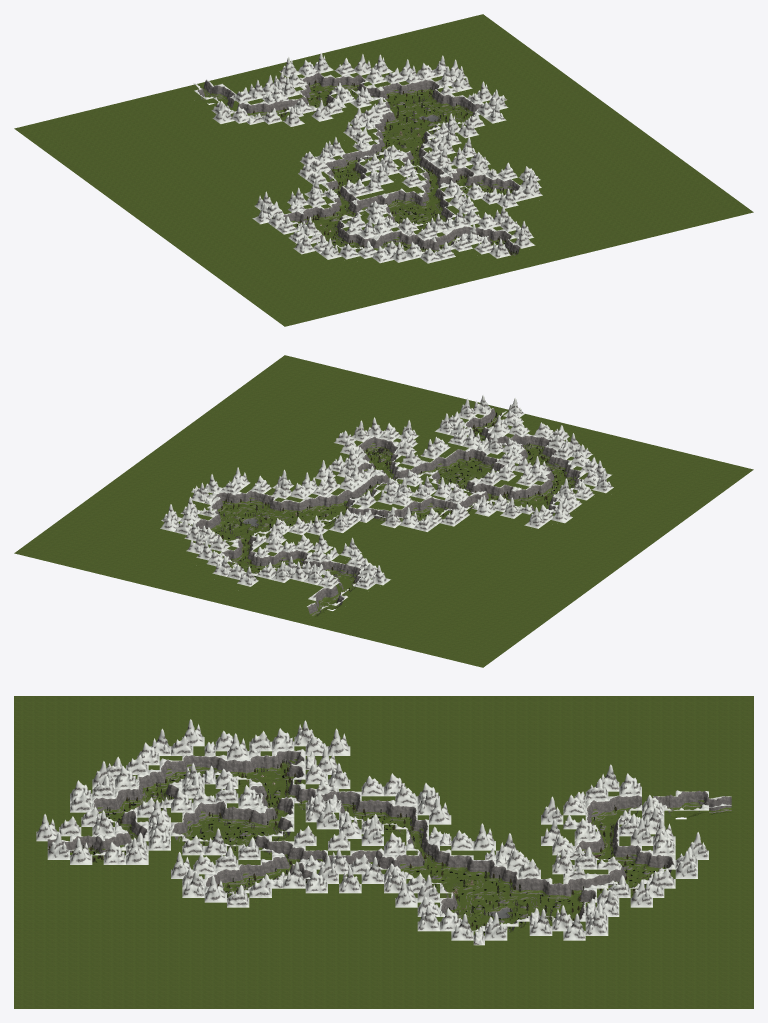
File: map_F02_02.glb
3 views of the same model, one above another, from view 1: azimuth 30°, elevation 25°; view 2: azimuth 150°, elevation 25°; view 3: azimuth 270°, elevation 25° (orthographic). The views are drawn at different scales.
Visible parts, largest first — view 1: default_ground; view 2: default_ground; view 3: default_ground.
Part boxes in pixels (x1,y1,x2,y2): default_ground: (14, 14, 753, 326); default_ground: (14, 355, 753, 667); default_ground: (14, 696, 753, 1008).
Size of the model in its own units: 2376 by 140 by 2376.
Materials: 485 (485 with a texture image).
